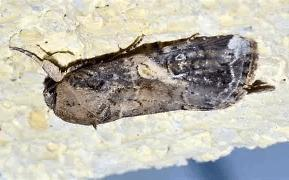army worm adult: (9, 9, 287, 136)
